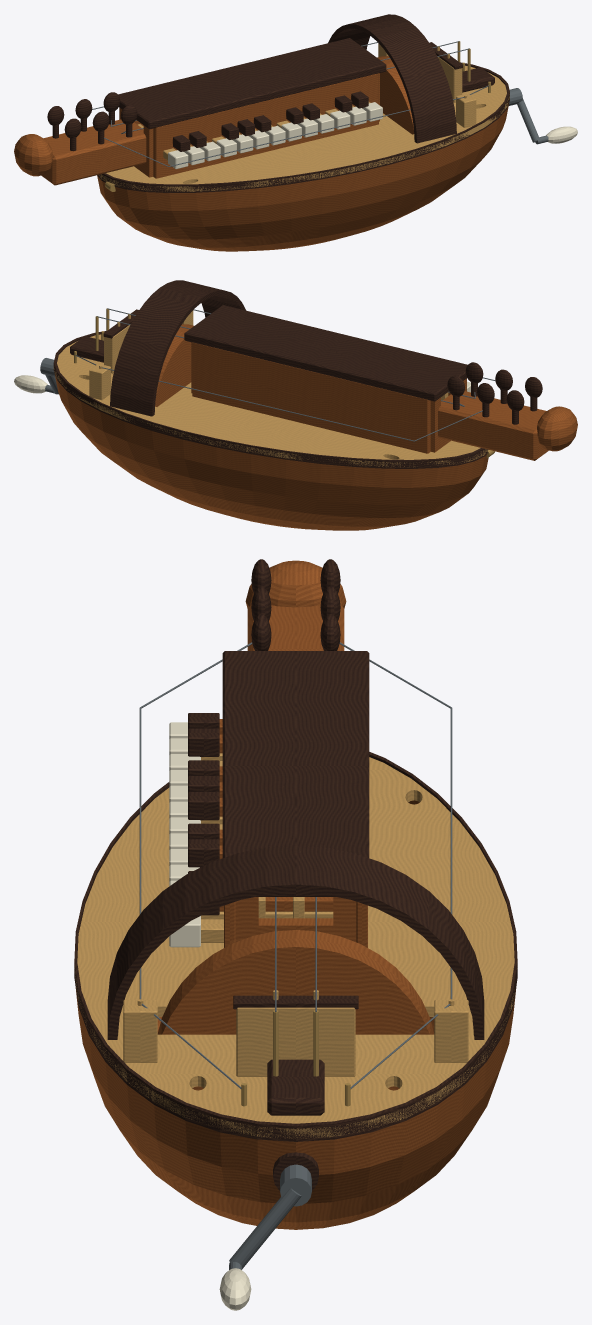
Rendered from hurdy_gurdy_LOD1.glb.
The picture shows the model from 3 angles, top to bottom: view 1: azimuth 30°, elevation 25°; view 2: azimuth 150°, elevation 25°; view 3: azimuth 270°, elevation 25°; orthographic projection. The views are drawn at different scales.
Parts seen in each view (by area): view 1: Hollow_bowl_shell, Keybox_closed_lid, Soundboard, Arched_wheel_cover, Keybox_side_rail, Short_pegbox_plate, Dark_perimeter_binding, Friction_wheel, Rounded_scroll_finial, Drone_bridge, Tailpiece, Keybox_end_wall (+5 smaller); view 2: Hollow_bowl_shell, Keybox_side_rail.001, Keybox_closed_lid, Soundboard, Arched_wheel_cover, Short_pegbox_plate, Dark_perimeter_binding, Friction_wheel, Rounded_scroll_finial, Drone_bridge.001, Tailpiece, Keybox_end_wall (+3 smaller); view 3: Soundboard, Keybox_closed_lid, Hollow_bowl_shell, Arched_wheel_cover, Friction_wheel, Dark_perimeter_binding, Melody_bridge, Tailpiece, Keybox_end_wall.001, Short_pegbox_plate, Rounded_scroll_finial, Drone_bridge (+6 smaller).
Part boxes in pixels (x1,y1,x2,y2): Hollow_bowl_shell: (97, 103, 508, 251); Keybox_closed_lid: (118, 38, 386, 129); Soundboard: (99, 65, 509, 191); Arched_wheel_cover: (328, 14, 456, 143); Keybox_side_rail: (153, 73, 378, 178); Short_pegbox_plate: (41, 119, 146, 185); Dark_perimeter_binding: (97, 62, 509, 192); Friction_wheel: (377, 56, 414, 134); Rounded_scroll_finial: (14, 134, 52, 176); Drone_bridge: (456, 93, 476, 127); Tailpiece: (462, 67, 494, 92); Keybox_end_wall: (119, 107, 153, 177); Hollow_bowl_shell: (54, 373, 488, 530); Keybox_side_rail.001: (192, 342, 430, 453); Keybox_closed_lid: (184, 305, 467, 401); Soundboard: (53, 334, 487, 467); Arched_wheel_cover: (110, 280, 245, 416); Short_pegbox_plate: (438, 391, 548, 460); Dark_perimeter_binding: (53, 331, 488, 468); Friction_wheel: (155, 324, 193, 406); Rounded_scroll_finial: (537, 406, 577, 451); Drone_bridge.001: (89, 363, 110, 400); Tailpiece: (70, 336, 103, 362); Keybox_end_wall: (430, 378, 466, 452); Soundboard: (74, 757, 517, 1138); Keybox_closed_lid: (222, 651, 369, 896); Hollow_bowl_shell: (75, 800, 516, 1229); Arched_wheel_cover: (107, 845, 484, 1039); Friction_wheel: (157, 930, 434, 1090); Dark_perimeter_binding: (74, 752, 517, 1141); Melody_bridge: (236, 1007, 355, 1076); Tailpiece: (267, 1059, 324, 1115); Keybox_end_wall.001: (235, 897, 356, 941); Short_pegbox_plate: (247, 605, 344, 650); Rounded_scroll_finial: (245, 560, 346, 608); Drone_bridge: (123, 1000, 157, 1062).
Size of the model in its own units: 0.873 by 0.2872 by 0.3079.
Materials: 6 (3 with a texture image).
